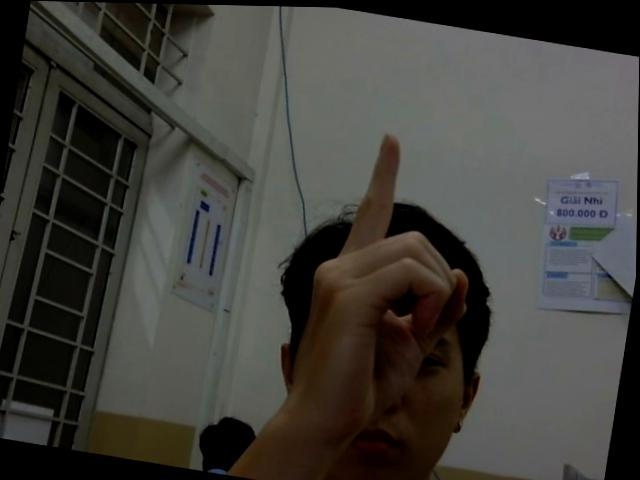D: (284, 116, 494, 450)
